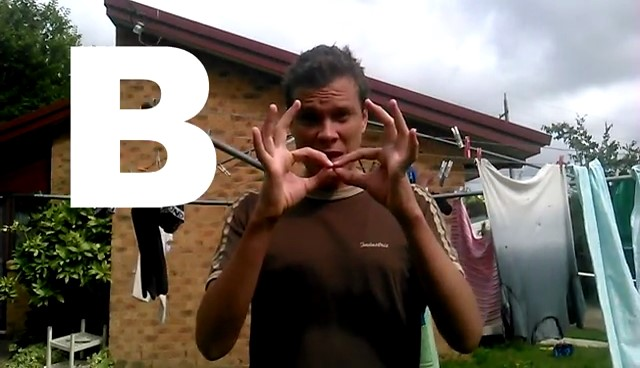B: (249, 96, 422, 218)
